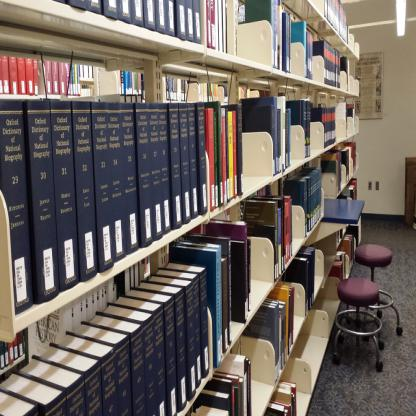book: (0, 95, 240, 312), (0, 260, 209, 416), (169, 232, 249, 372), (54, 0, 201, 47), (240, 190, 293, 284), (202, 216, 249, 316), (246, 283, 294, 372), (192, 352, 252, 416), (241, 92, 282, 173), (284, 164, 324, 235), (242, 0, 281, 70), (315, 141, 357, 200), (282, 247, 316, 316), (329, 224, 358, 294), (285, 95, 312, 162), (0, 51, 38, 94), (312, 36, 342, 86), (202, 0, 229, 53), (292, 20, 312, 83), (41, 57, 72, 96), (264, 382, 297, 416), (323, 0, 346, 47), (310, 106, 336, 147), (112, 70, 145, 98), (71, 62, 97, 96), (279, 11, 291, 75), (342, 53, 350, 98)
